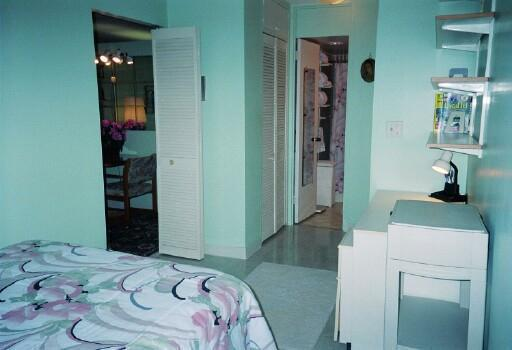Armario: (265, 33, 287, 230)
Cama: (1, 237, 277, 349)
Puerta: (154, 32, 203, 257), (298, 40, 318, 217)
